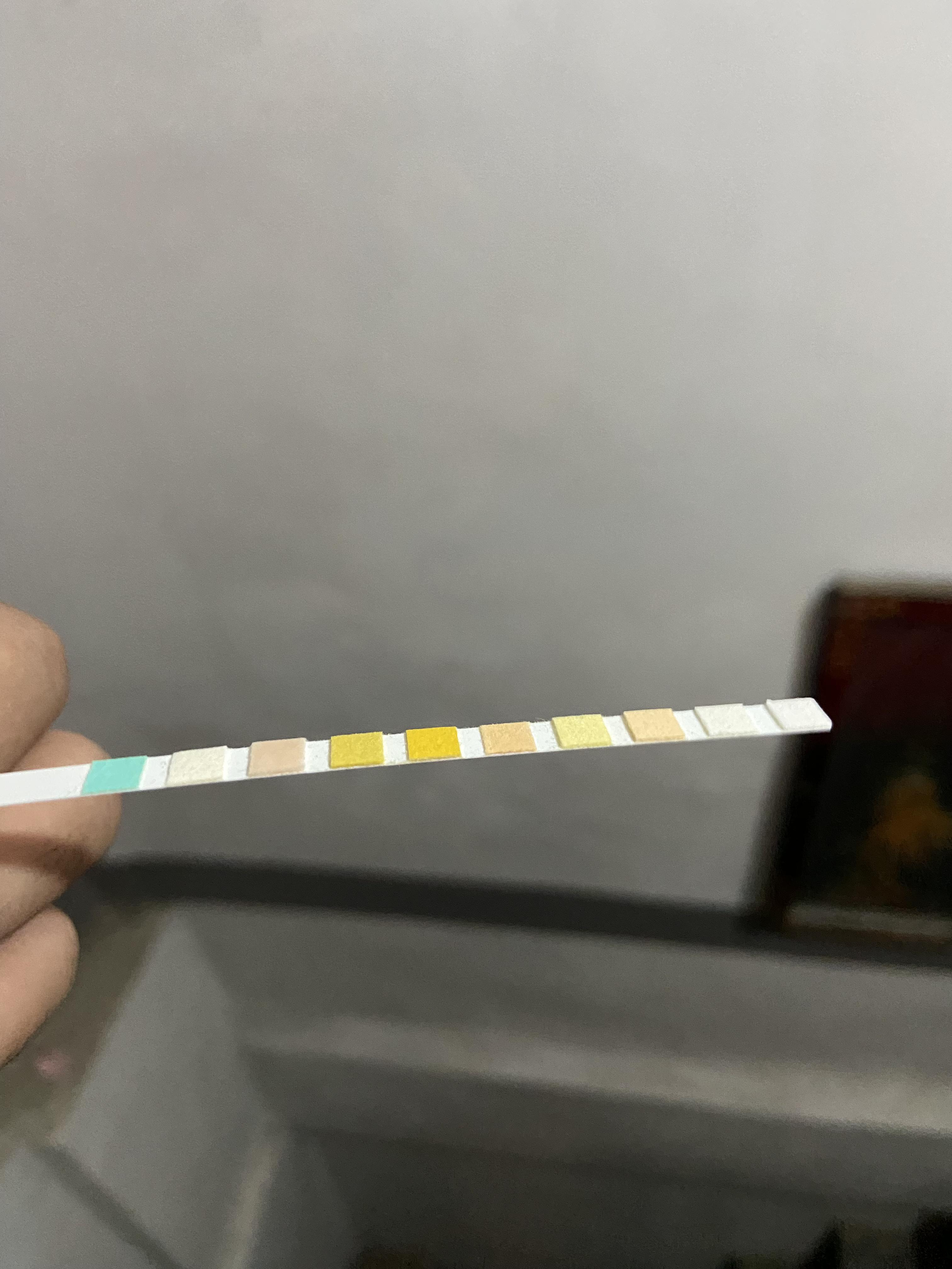Bilirubin: (173, 754, 219, 780)
Blood: (411, 733, 455, 757)
Glucose: (91, 761, 135, 788)
Ketone: (252, 743, 300, 770)
Leukocytes: (784, 701, 816, 728)
Nitrite: (710, 707, 745, 734)
Protein: (564, 717, 602, 744)
SpGravity: (333, 738, 379, 761)
Urobilinogen: (639, 710, 672, 738)
pH: (487, 727, 528, 751)
strip: (0, 699, 833, 805)
